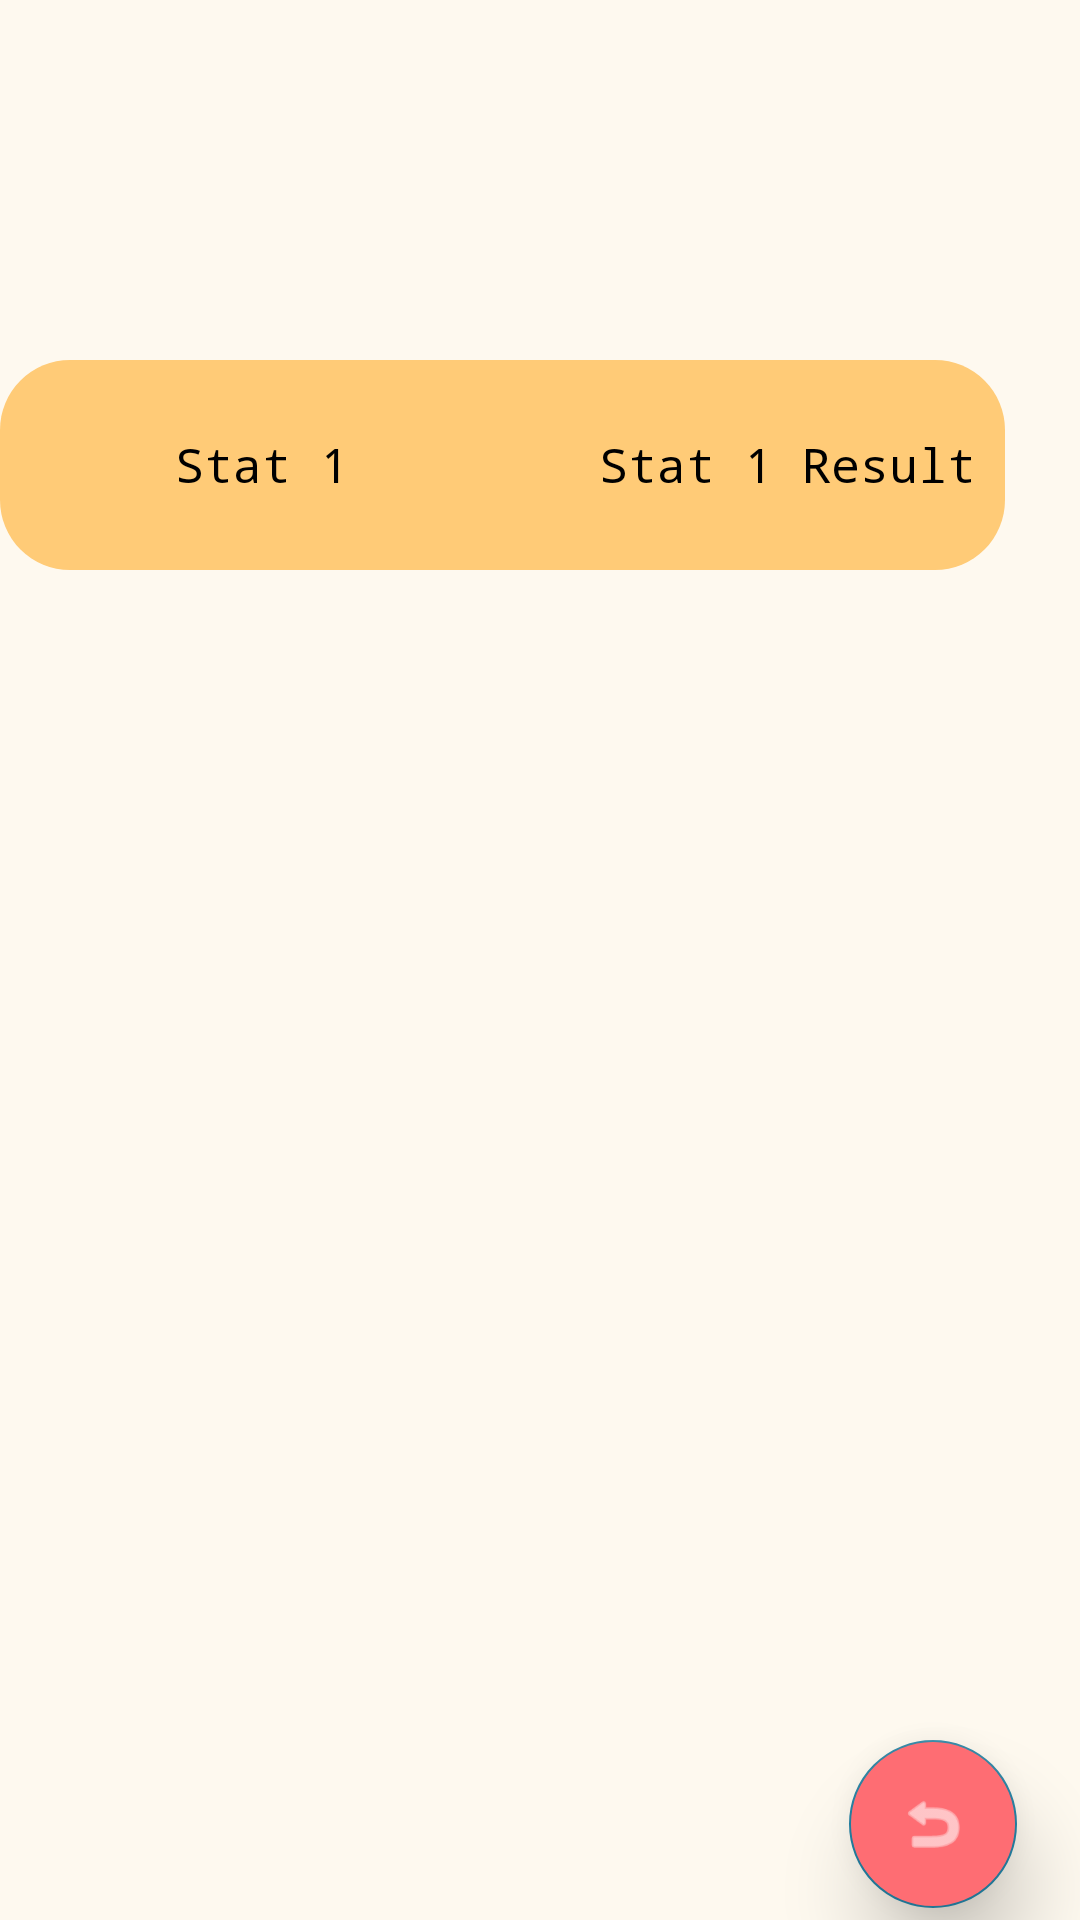

Named icons in this screenshot (1080×1920) and their centers, (x,y):
revert: (933,1824)
